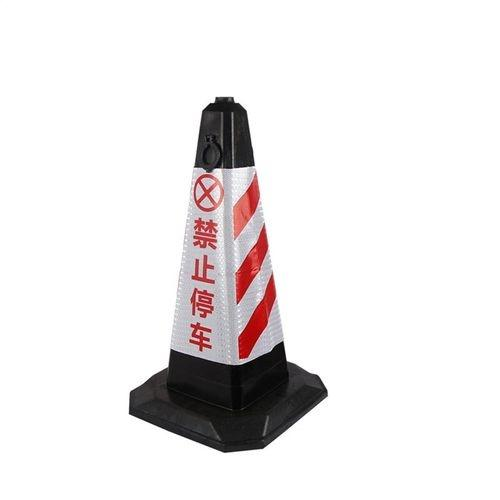cone_barrel: (134, 101, 320, 437)
